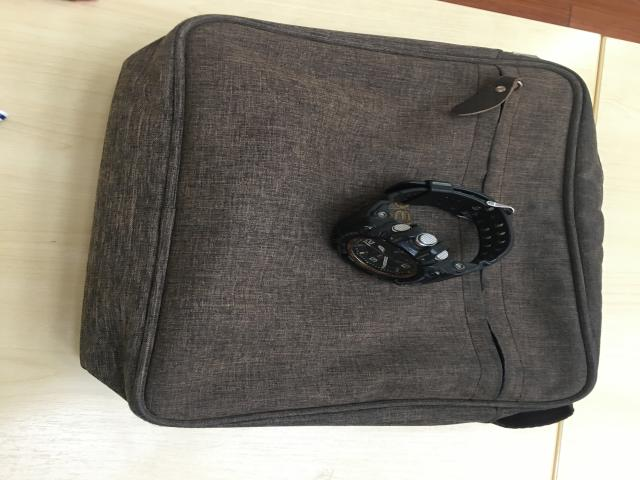Watch: (327, 182, 514, 286)
